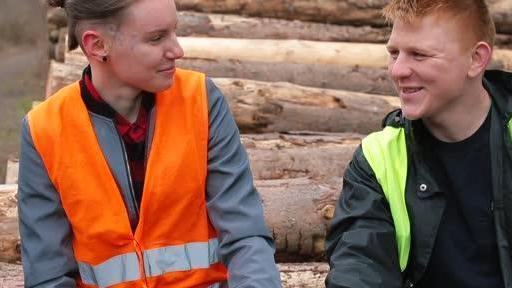Vest: (46, 88, 213, 288)
